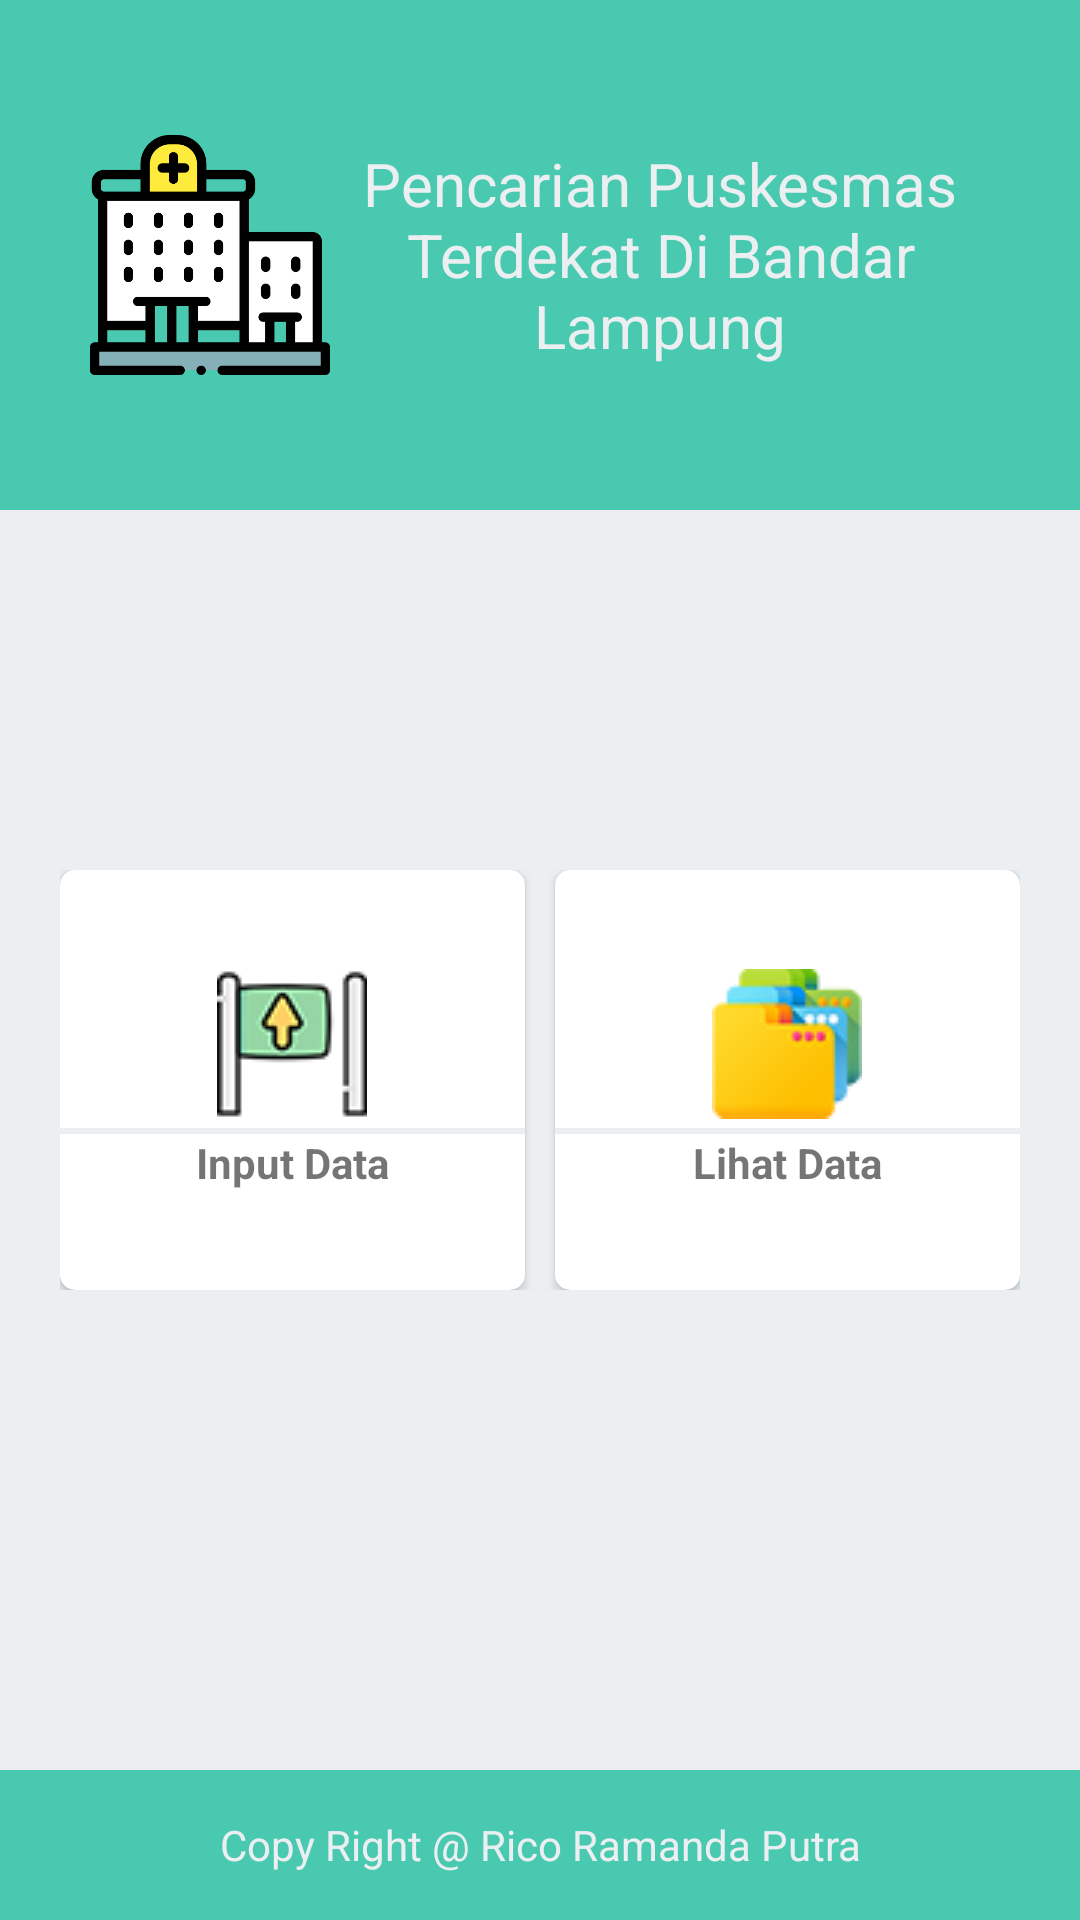

Screen size 1080px x 1920px. Icon name, then its center in pixels as [x,y]:
entry: [292,1044]
folder: [787,1044]
